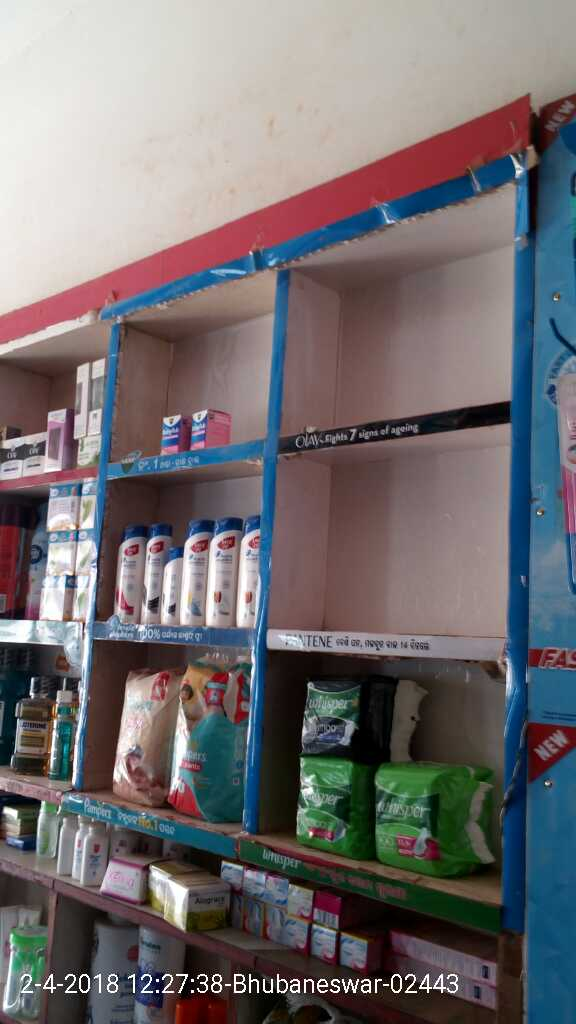oralcare: (11, 672, 47, 775), (49, 690, 75, 777)
vicks: (189, 408, 236, 449), (160, 418, 189, 449)
